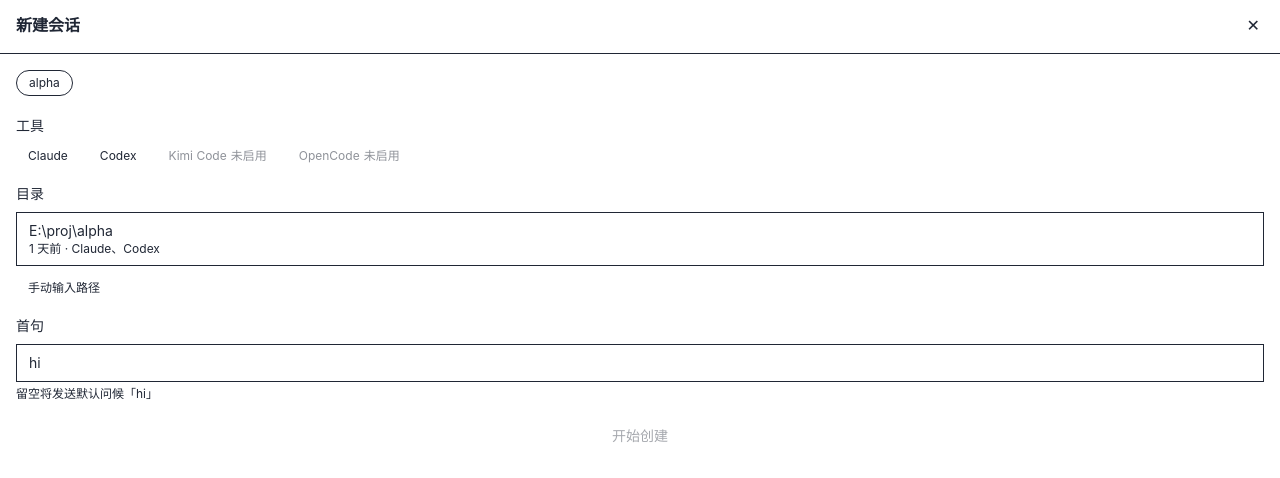
Test: CreateSessionSheet 最近项目快捷 chips › 非手填态点 chip → 直接选中该候选（回显 + aria-pressed，与候选列表同口径）
This screenshot has width=1280, height=478.
Click the button with test id "create-recent-chip-0". click: coordinates (44, 83)
box: [16,70,73,96]
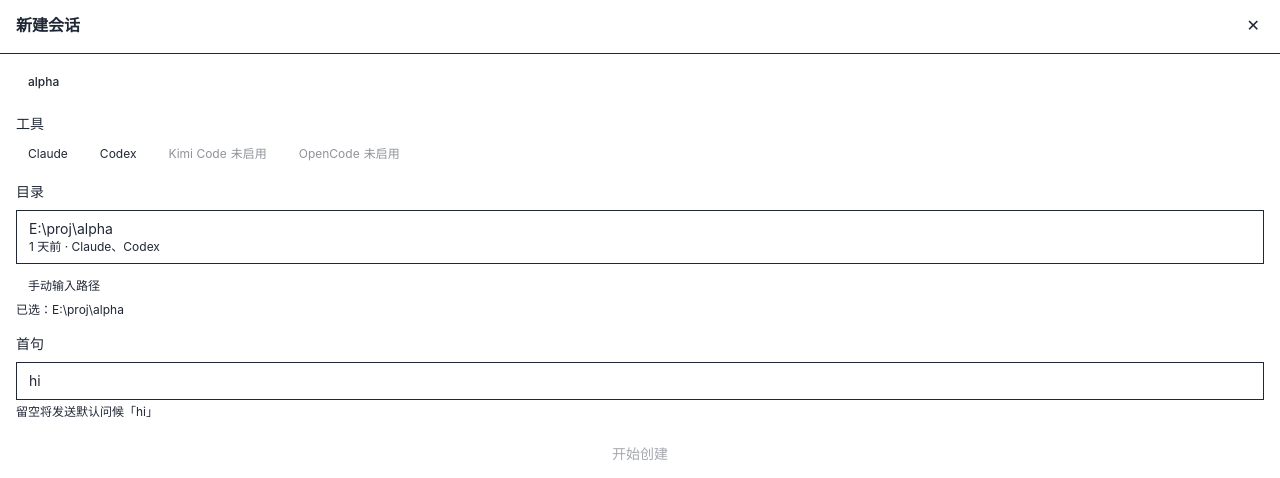
Result: the text with test id "create-selected-path" shows "E:\\proj\\alpha" at [16,302,124,317]
